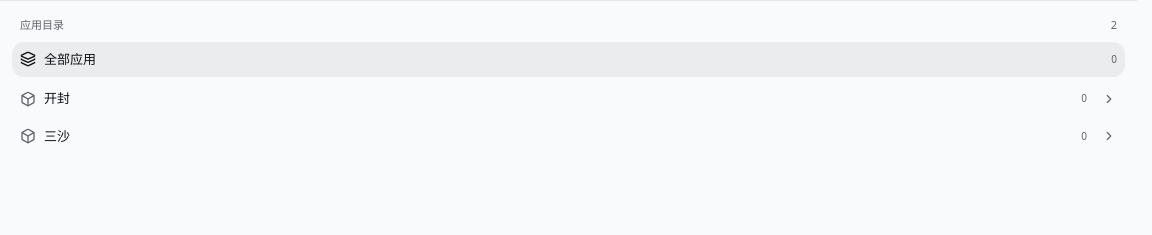
Test: 主侧栏应用目录 › 首次仅创建产品行，展开后保留分支内容以完成收起动画
Click the button named "展开 开封": click(1109, 99) [1095, 85, 1123, 113]
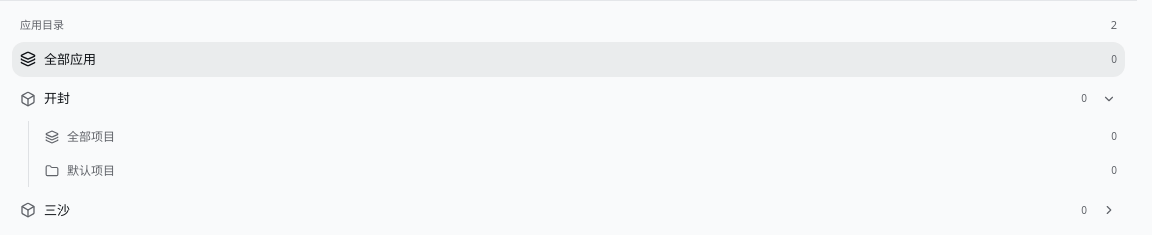
Expected: the text "全部项目" is shown once, [67, 128, 115, 144]
Click the button named "收起 开封": click(1109, 99) [1095, 85, 1123, 113]
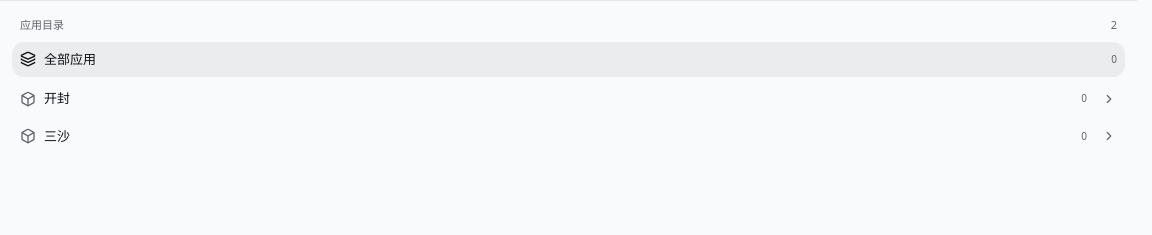
Expected: the button "默认项目 0" is gone
